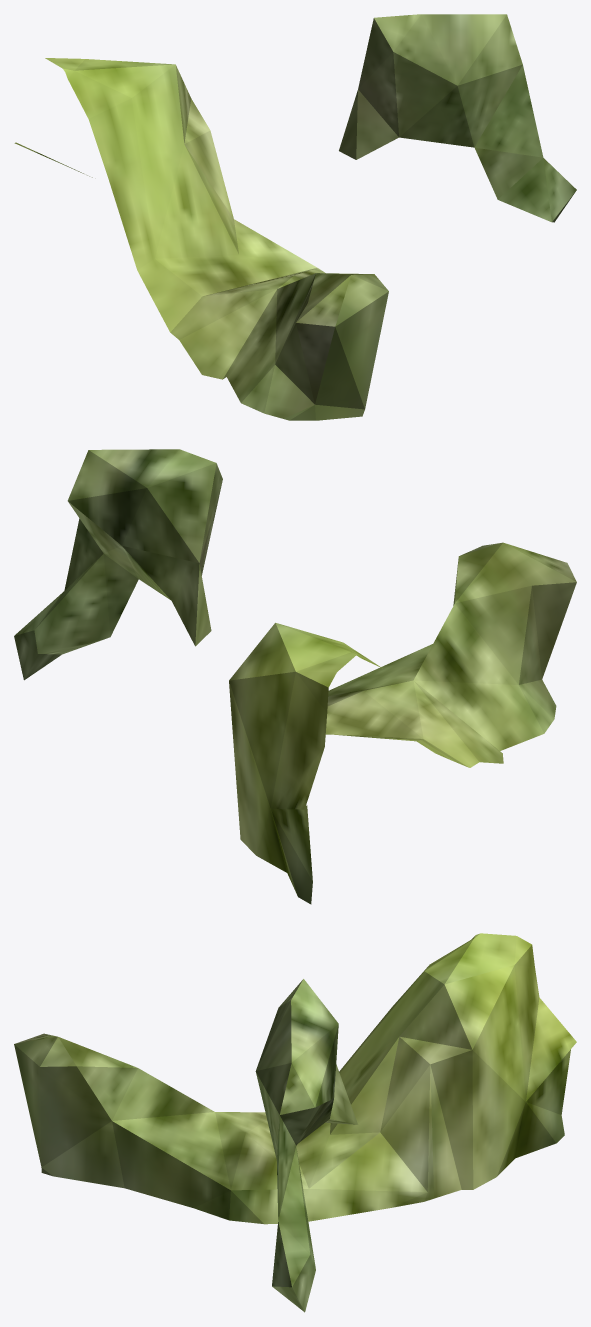
3 views of the same model, one above another, from view 1: azimuth 30°, elevation 25°; view 2: azimuth 150°, elevation 25°; view 3: azimuth 270°, elevation 25° (orthographic). The views are drawn at different scales.
Size of the model in its own units: 0.7718 by 0.4696 by 0.9088.
1 material, 1 textured.
